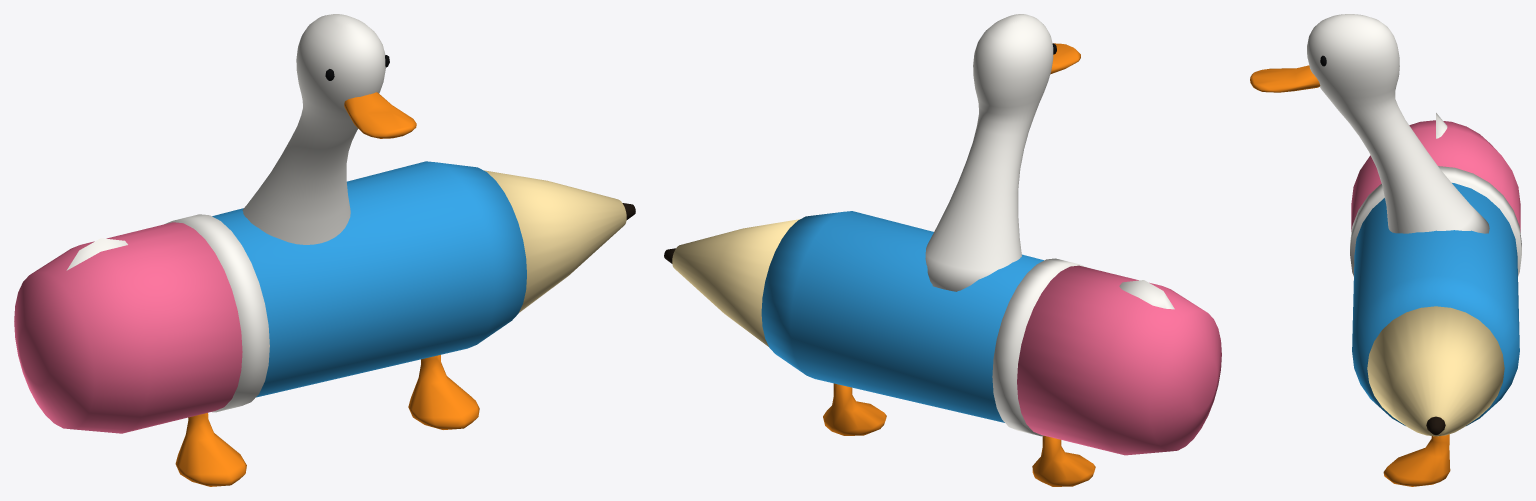
File: duck-capsulepen.glb
3 views of the same model, side by side, from view 1: azimuth 30°, elevation 25°; view 2: azimuth 150°, elevation 25°; view 3: azimuth 270°, elevation 25° (orthographic). The views are drawn at different scales.
Parts seen in each view (by area): view 1: duck-capsulepen; view 2: duck-capsulepen; view 3: duck-capsulepen.
Boxes of the visible parts, x1,y1,x2,y2 form: duck-capsulepen: [14, 14, 635, 486]; duck-capsulepen: [664, 14, 1221, 486]; duck-capsulepen: [1250, 14, 1521, 486].
Size of the model in its own units: 1 by 0.7358 by 0.4499.
Materials: 1 (1 with a texture image).
